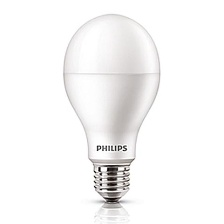light_bulb: (57, 7, 167, 204)
